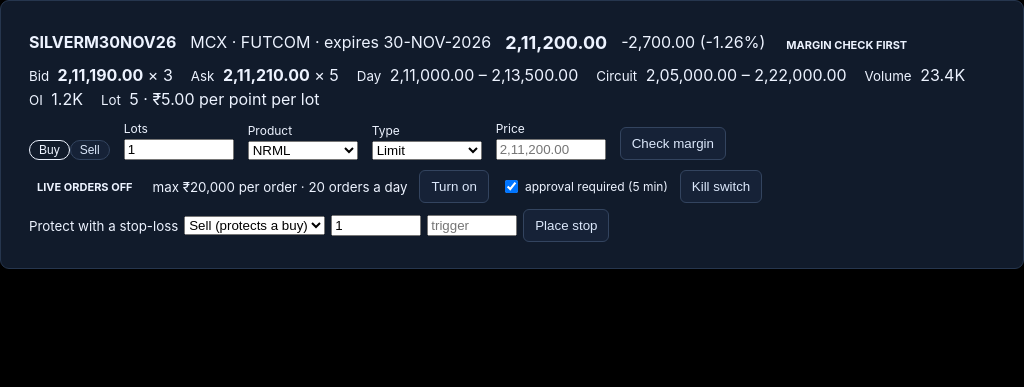
Test: OrderTicket › asks the broker what the order would cost and shows the shortfall
Expected: the text "MCX · FUTCOM · expires 30-NOV-2026" is shown, left=190, top=32, right=491, bottom=52
Click the button "Sell" at (90, 150), box left=70, top=140, right=110, bottom=160
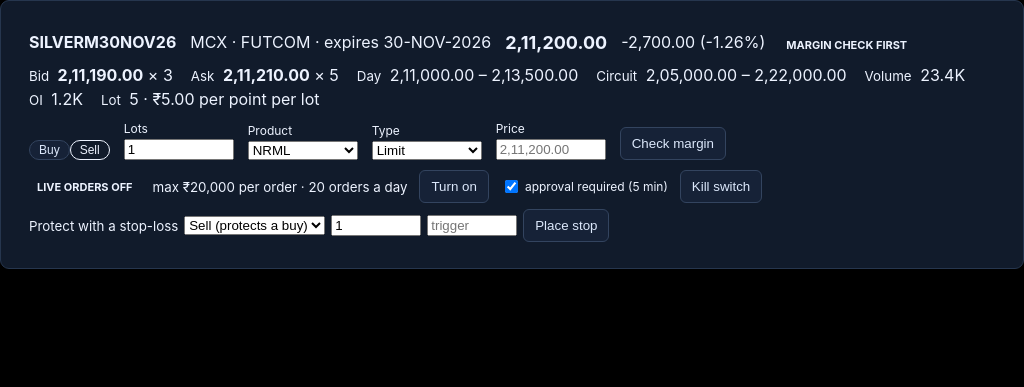
Replace the text in the number field named "Order quantity" with "2" at (179, 150), box left=124, top=139, right=234, bottom=160
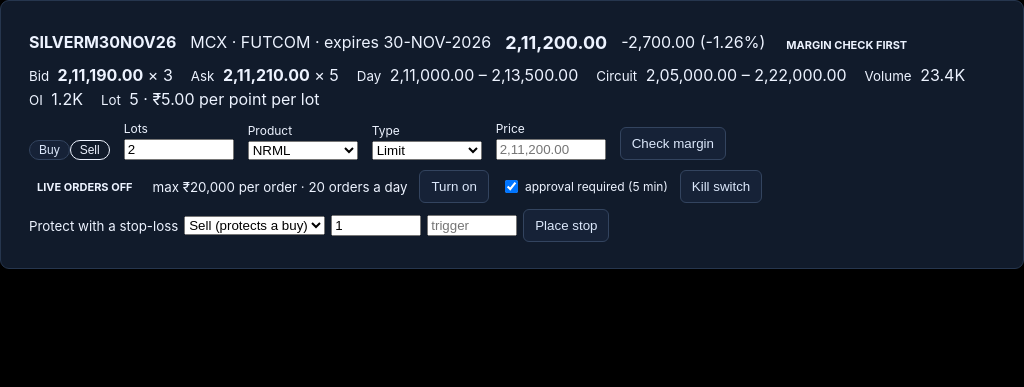
Click the button "Check margin" at (673, 144), box left=620, top=127, right=726, bottom=160
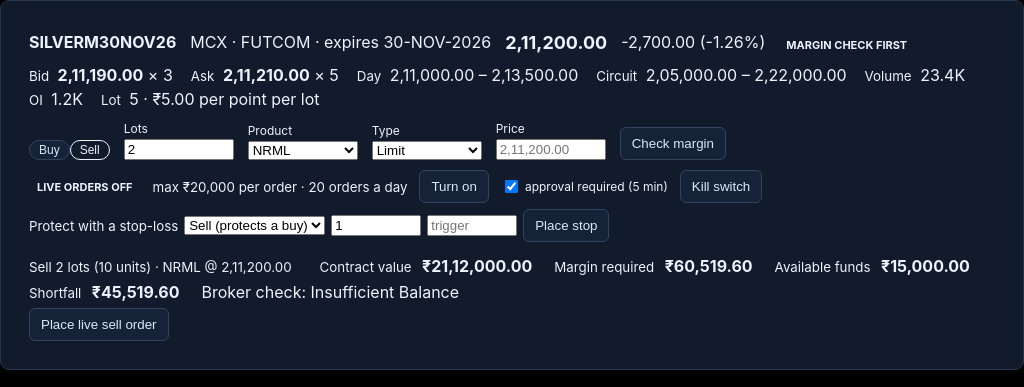
Result: the text "Shortfall" is shown at left=29, top=285, right=81, bottom=301
Result: the text "₹60,519.60" is shown at left=665, top=256, right=753, bottom=276
